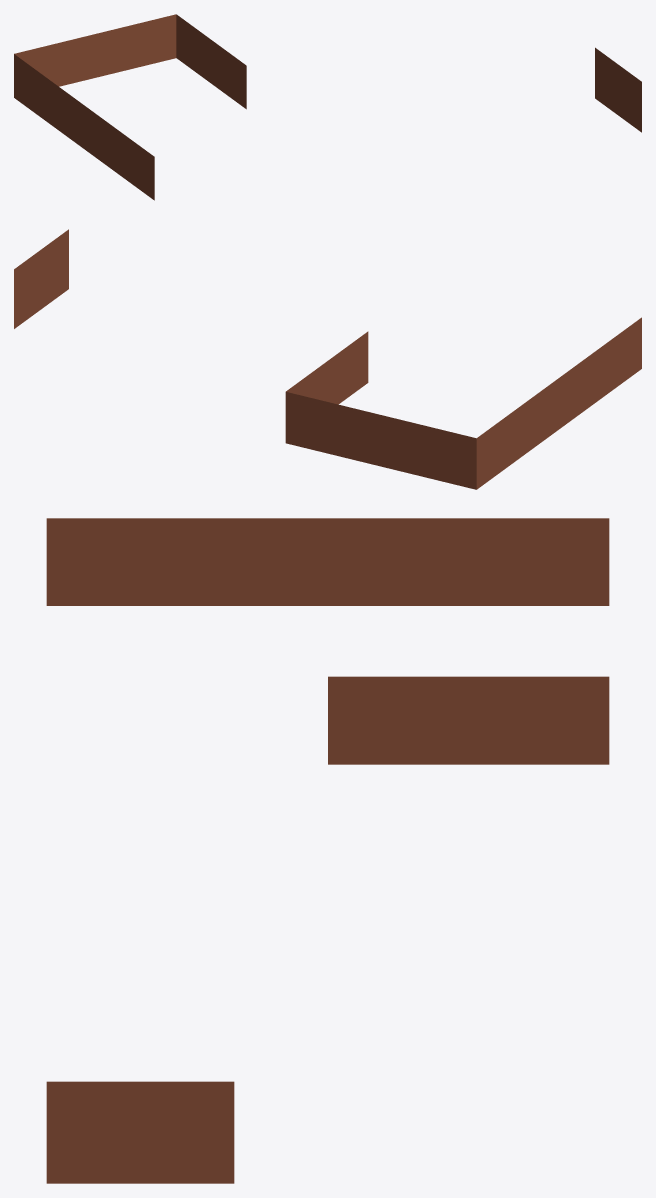
File: 0608-Buildings-shell-pieces-facade-bay-wall-round-an-opening-reveals-sill-head-emitBa.glb
The picture shows the model from 3 angles, top to bottom: view 1: azimuth 30°, elevation 25°; view 2: azimuth 150°, elevation 25°; view 3: azimuth 270°, elevation 25°; orthographic projection. The views are drawn at different scales.
Visible parts, largest first — view 1: emitBay; view 2: emitBay; view 3: emitBay.
Boxes of the visible parts, left/top/right/bottom form: emitBay: left=14, top=14, right=641, bottom=200; emitBay: left=14, top=229, right=641, bottom=489; emitBay: left=46, top=518, right=609, bottom=1183.
Bounding box in the file's own units: 36 × 6.7 × 18.
